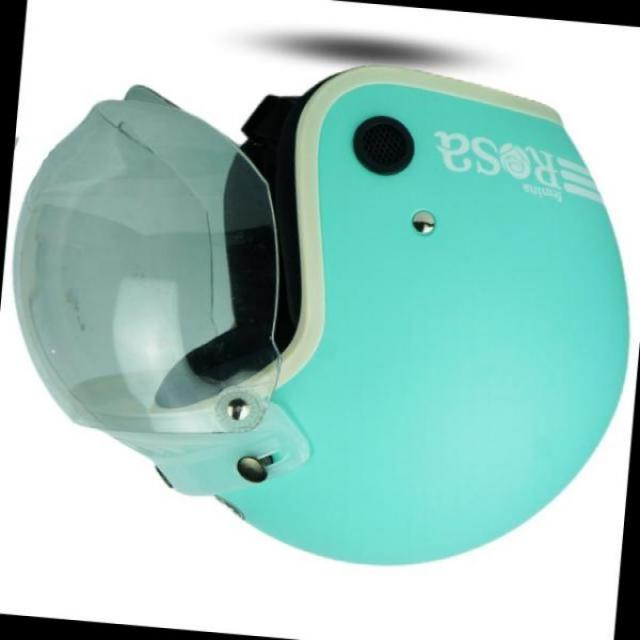Helmet: (12, 86, 584, 547)
